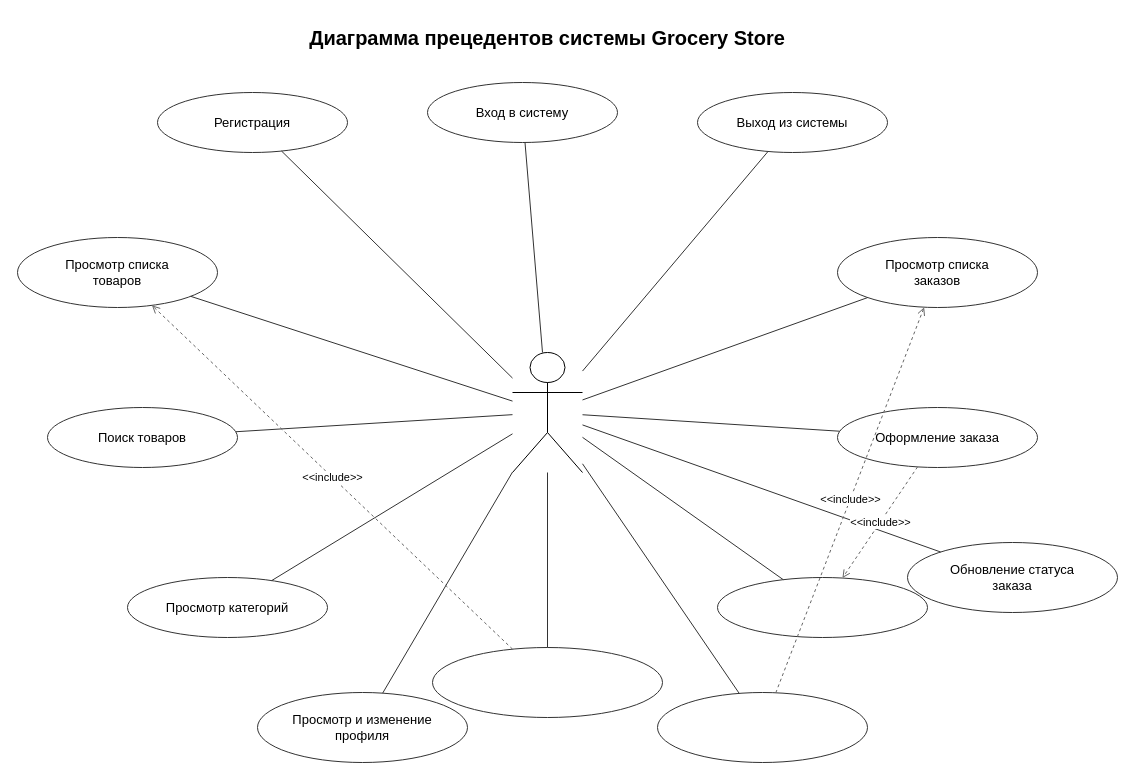
Image size: 1135x780. Some labels were removed from this diagram. Here are the shapes that lost their labels. From the top down, the box of each, then its label:
(512, 352, 582, 472): Пользователь
(716, 576, 928, 638): Управление корзиной
(432, 646, 662, 718): Просмотр подробной информации о товаре
(656, 692, 868, 762): Просмотр деталей заказа
